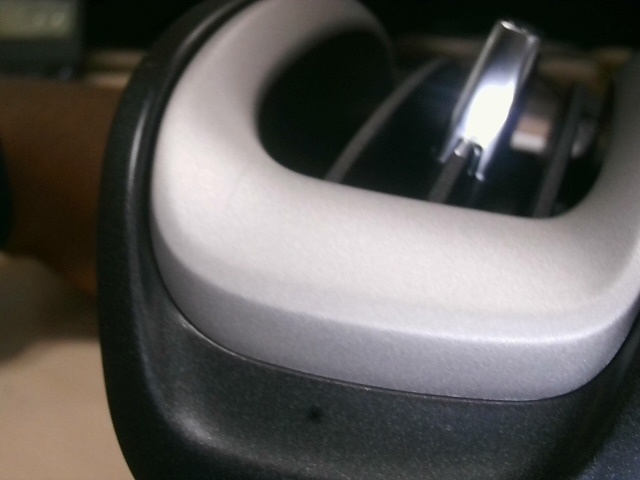NG: (224, 165, 253, 212), (140, 52, 159, 82)
